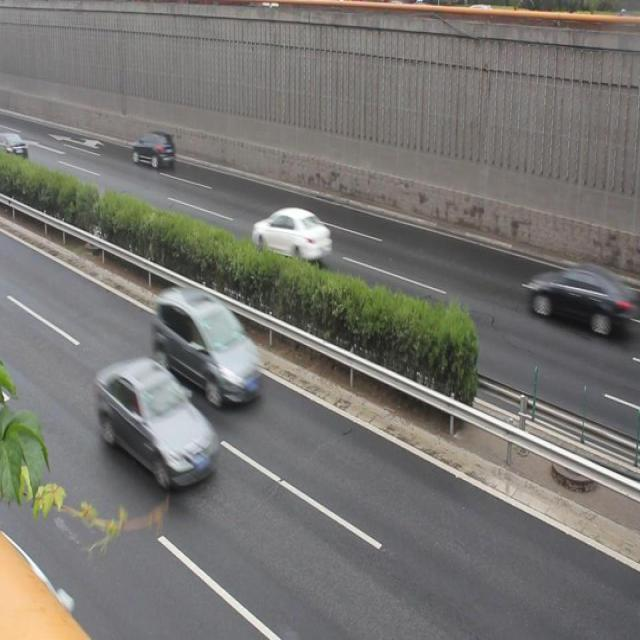car: (96, 356, 217, 487), (156, 287, 260, 403), (528, 262, 626, 340), (252, 207, 332, 264), (133, 131, 177, 170)
